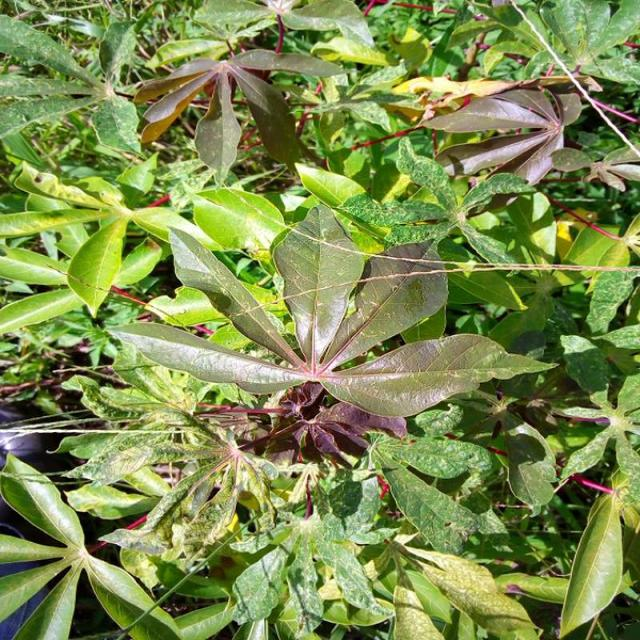cassava leaf: (108, 200, 554, 422), (269, 201, 365, 366)
